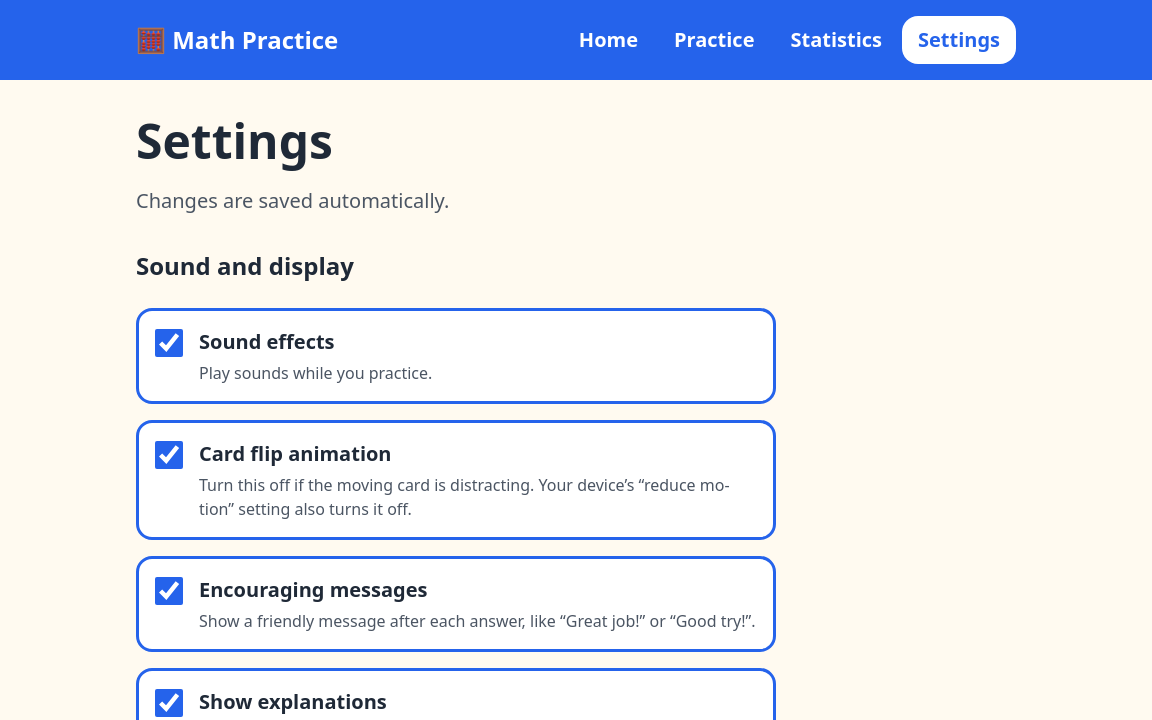
it: SettingsPage › saves the Card flip animation setting automatically
Click the checkbox labelled "Card flip animation".
click(169, 455)  # box x1=155 y1=441 x2=183 y2=469
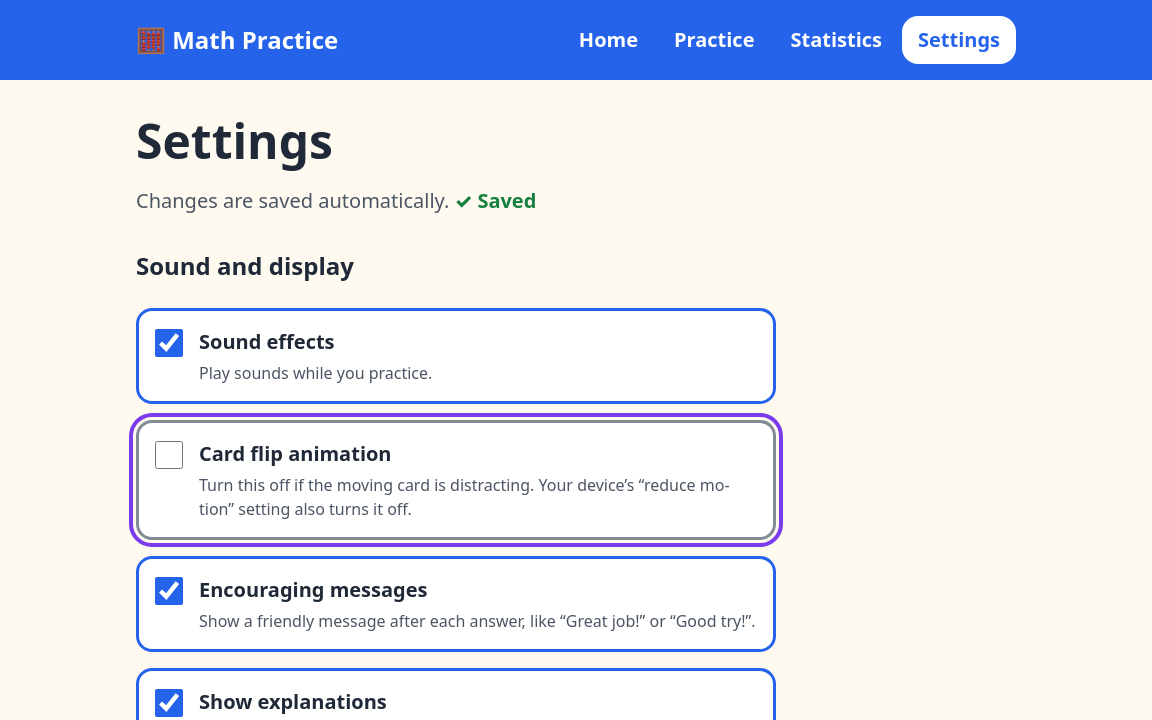
Now the checkbox labelled "Card flip animation" is not checked, box x1=155 y1=441 x2=183 y2=469
Now the message shows "Saved", box x1=454 y1=187 x2=536 y2=214
